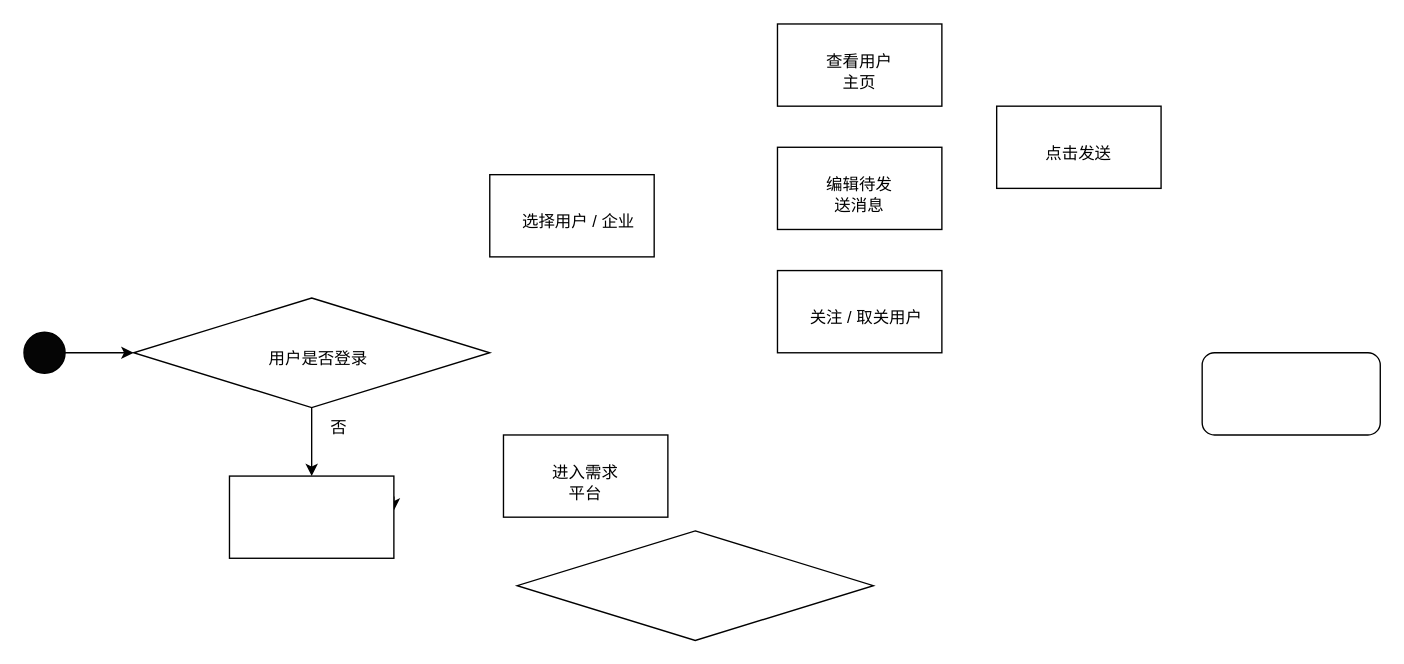
This 1404x664 diagram has some shape labels left out. Each missing label, with the centre of its shape:
交互结束: pixel 1290 393
是否是企业: pixel 694 585
用户登录: pixel 311 516
